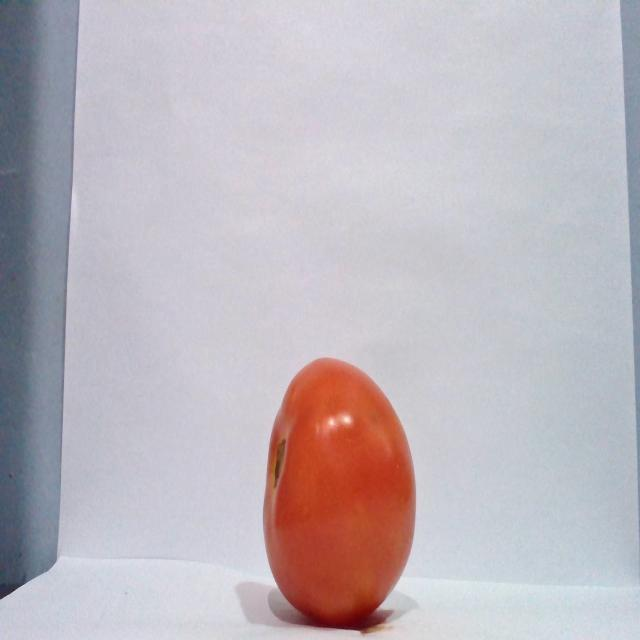Red: (261, 355, 417, 626)
